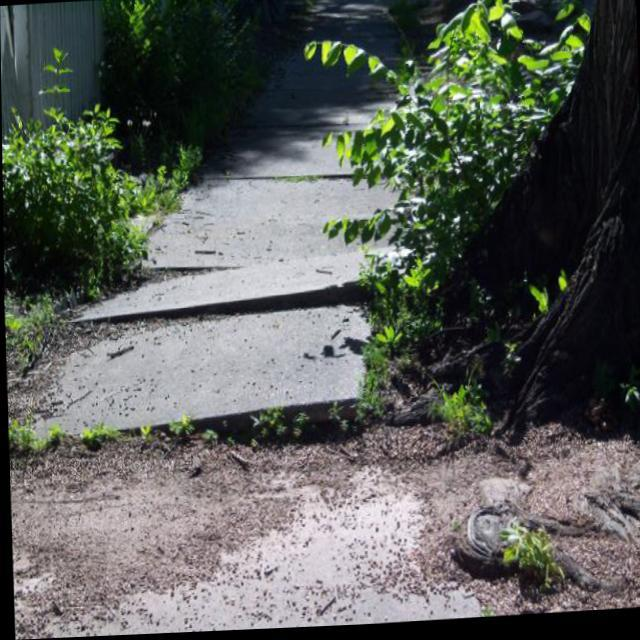bump: (128, 270, 408, 344)
hole: (80, 372, 436, 476)
